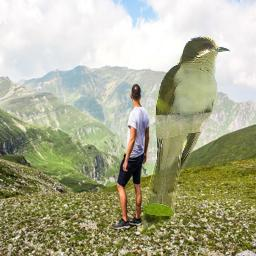Cuckoo: (141, 36, 231, 237)
